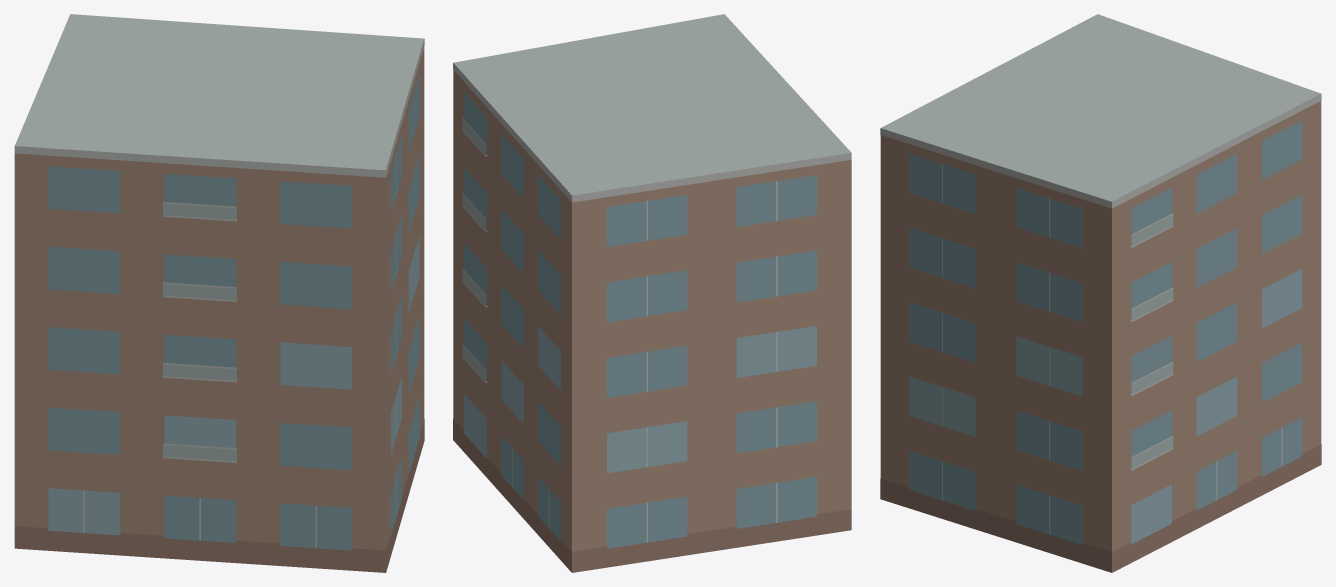
Rendered from survey-upis-32628072.glb.
The picture shows the model from 3 angles, left to right: view 1: azimuth 30°, elevation 25°; view 2: azimuth 150°, elevation 25°; view 3: azimuth 270°, elevation 25°; orthographic projection. The views are drawn at different scales.
Visible parts, largest first — view 1: survey-upis-32628072.tmp; view 2: survey-upis-32628072.tmp; view 3: survey-upis-32628072.tmp.
Boxes of the visible parts, bbox=[...] form: survey-upis-32628072.tmp: bbox=[14, 14, 424, 572]; survey-upis-32628072.tmp: bbox=[453, 14, 851, 572]; survey-upis-32628072.tmp: bbox=[880, 14, 1321, 572].
Size of the model in its own units: 14.44 by 13.3 by 14.33.
